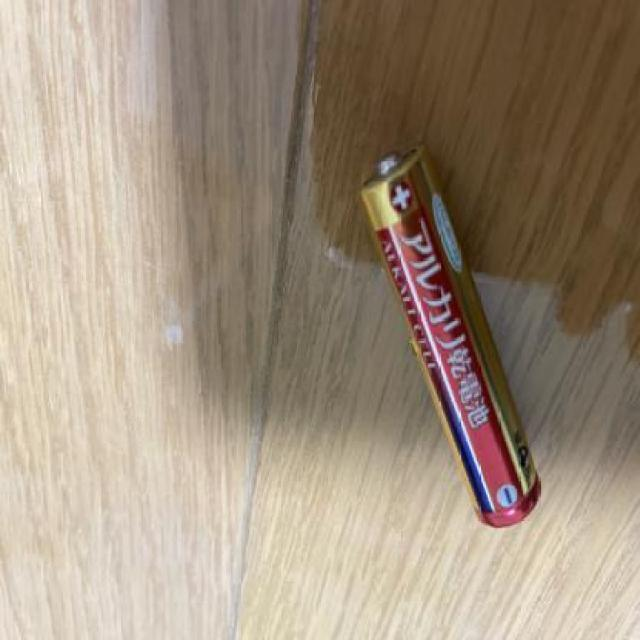AAA: (358, 128, 551, 551)
